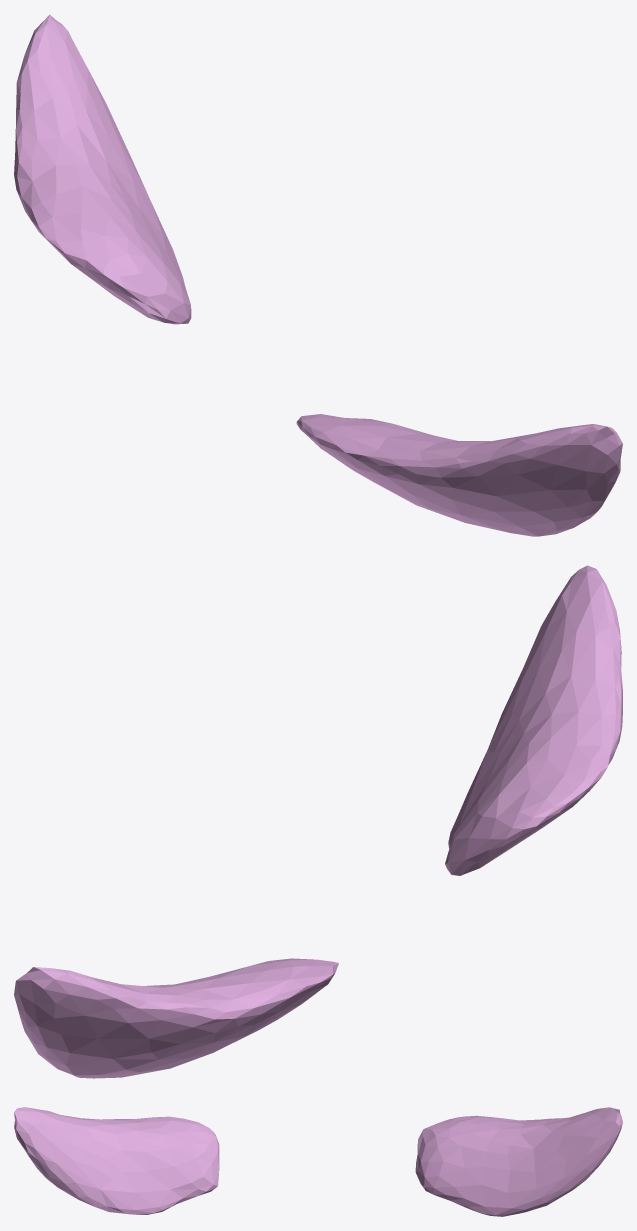
The picture shows the model from 3 angles, top to bottom: view 1: azimuth 30°, elevation 25°; view 2: azimuth 150°, elevation 25°; view 3: azimuth 270°, elevation 25°; orthographic projection. The views are drawn at different scales.
Visible parts, largest first — view 1: 628.obj; view 2: 628.obj; view 3: 628.obj.
Part boxes in pixels (bbox=[...]): 628.obj: bbox=[14, 14, 622, 536]; 628.obj: bbox=[14, 565, 622, 1078]; 628.obj: bbox=[14, 1107, 622, 1216].
Size of the model in its own units: 606 by 612 by 3282.
